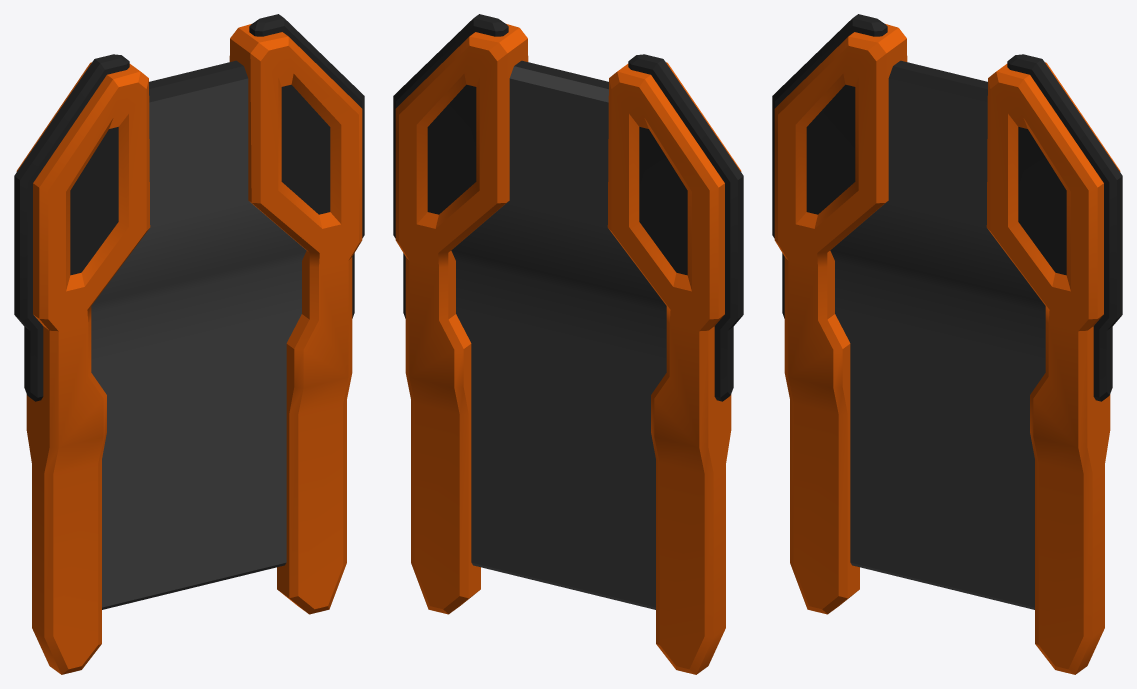
Rendered from Keycard_Orange.fbx.
The picture shows the model from 3 angles, left to right: view 1: azimuth 30°, elevation 25°; view 2: azimuth 150°, elevation 25°; view 3: azimuth 330°, elevation 25°; orthographic projection.
Parts seen in each view (by area): view 1: pCube1; view 2: pCube1; view 3: pCube1.
Boxes of the visible parts, left/top/right/bottom form: pCube1: left=14, top=14, right=364, bottom=674; pCube1: left=393, top=14, right=743, bottom=674; pCube1: left=772, top=14, right=1122, bottom=674.
Size of the model in its own units: 53.92 by 89.55 by 7.66.
